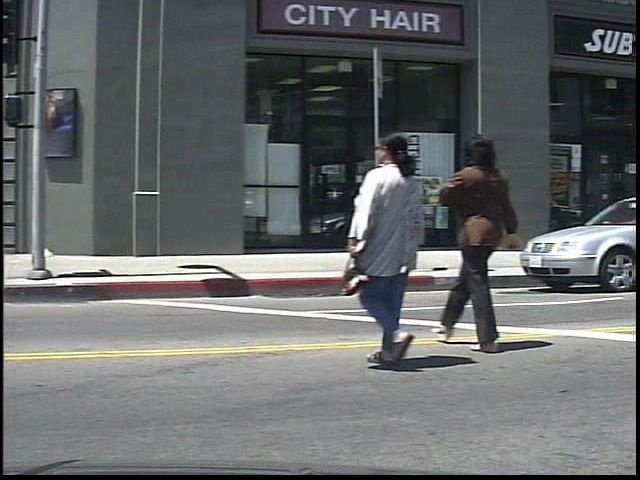person: (445, 125, 544, 355), (356, 122, 443, 372)
